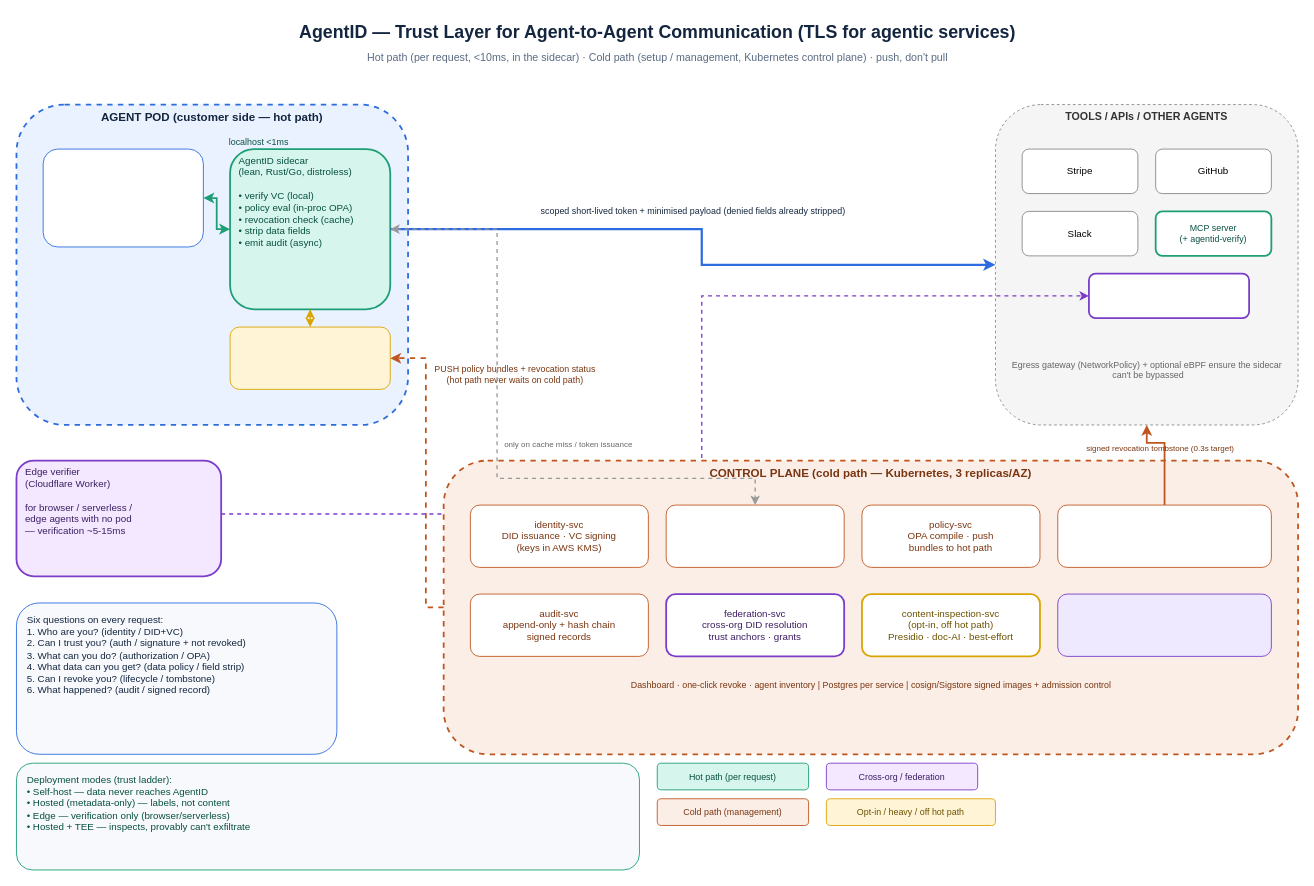
This 1314x886 diagram has some shape labels left out. Here are the shapes that lost their labels. From the top down, the centre of each, then its label:
At point (122, 197): "Agent container (your AI agent code) holds NO raw API keys".
At point (1169, 295): "Company B agent (cross-org)".
At point (309, 357): "Local Redis cache (policy bundle · revocation snapshot)".
At point (754, 535): "credential-svc vault · short-lived scoped token issuance".
At point (1164, 535): "revocation-svc tombstone · webhook fanout Status List · autoscaled".
At point (1164, 624): "AWS KMS / HSM private keys never leave".
